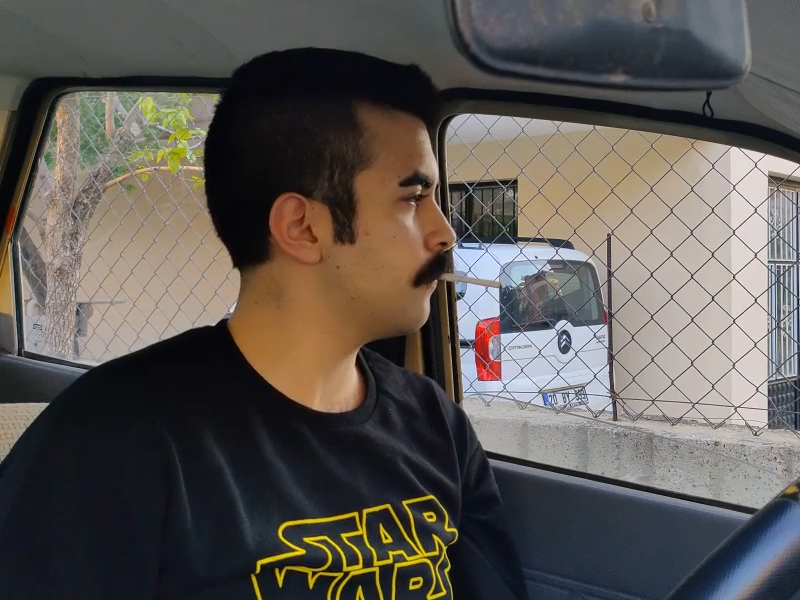sigara: (438, 272, 504, 289)
